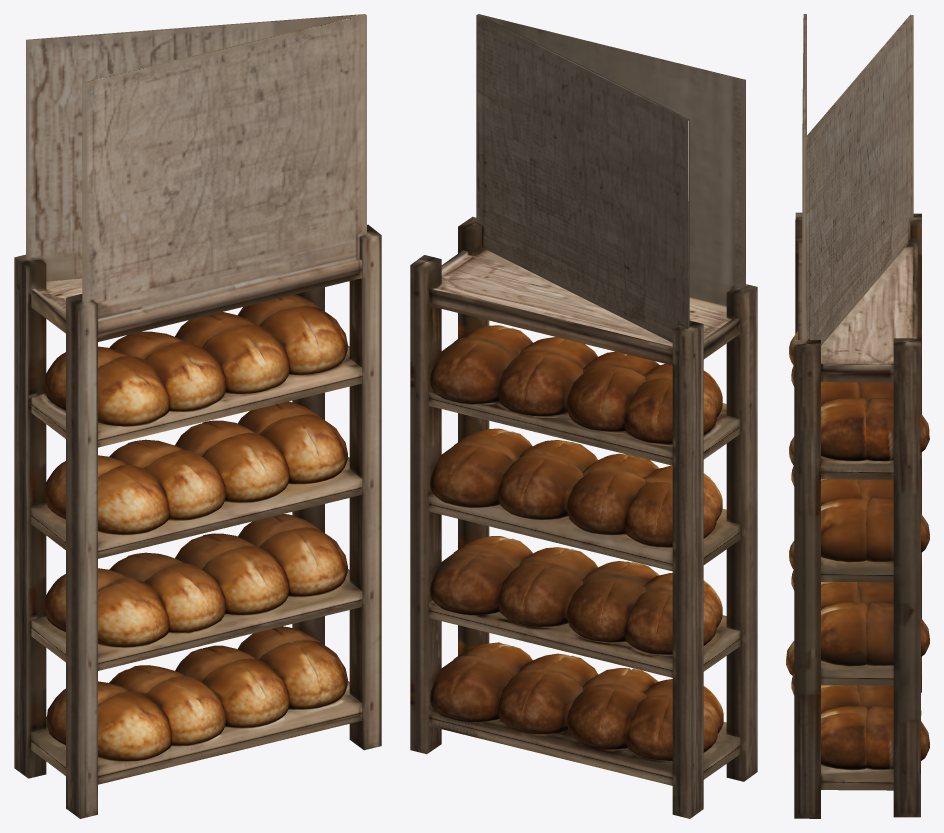
The model's file is act1_kit_v1_bread_rack_with_board.glb.
3 renders of one model, left to right at view 1: azimuth 30°, elevation 25°; view 2: azimuth 150°, elevation 25°; view 3: azimuth 270°, elevation 25°, orthographic. The views are drawn at different scales.
Parts seen in each view (by area): view 1: act1_kit_v1_bread_rack_with_board; view 2: act1_kit_v1_bread_rack_with_board; view 3: act1_kit_v1_bread_rack_with_board.
Boxes of the visible parts, x1,y1,x2,y2 form: act1_kit_v1_bread_rack_with_board: [14, 14, 381, 818]; act1_kit_v1_bread_rack_with_board: [410, 14, 757, 818]; act1_kit_v1_bread_rack_with_board: [786, 14, 929, 818].
Size of the model in its own units: 0.4326 by 1 by 0.1939.
1 material, 1 textured.
